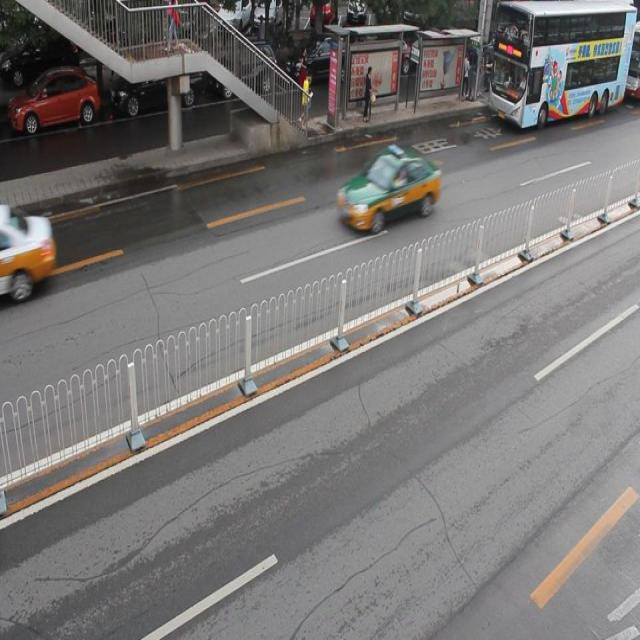car: (337, 146, 440, 233), (110, 49, 201, 116), (11, 70, 100, 134), (1, 209, 56, 299), (211, 38, 277, 101), (284, 32, 353, 89)
van: (485, 1, 632, 127)
